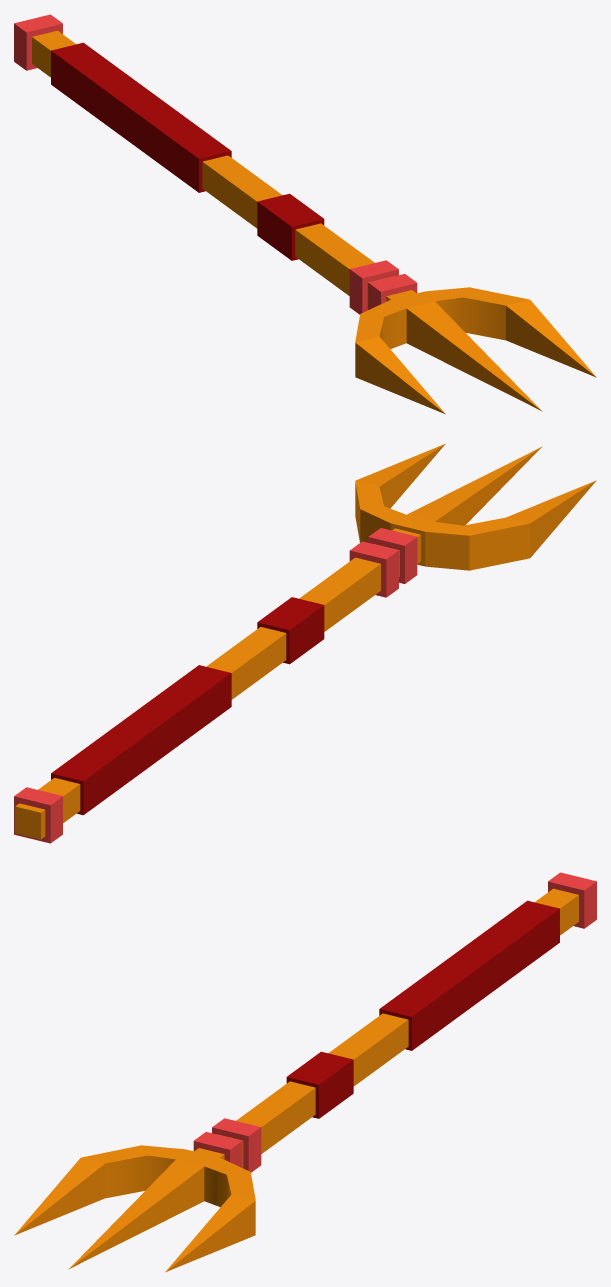
Rendered from Spear 02.FBX.
The picture shows the model from 3 angles, top to bottom: view 1: azimuth 30°, elevation 25°; view 2: azimuth 150°, elevation 25°; view 3: azimuth 330°, elevation 25°; orthographic projection.
Visible parts, largest first — view 1: Spear 02; view 2: Spear 02; view 3: Spear 02.
Boxes of the visible parts, box(x1,y1,x2,y2) form: Spear 02: box(14, 14, 596, 414); Spear 02: box(14, 443, 596, 843); Spear 02: box(14, 872, 596, 1272).
Bounding box in the file's own units: 32.04 × 6.7 × 163.
